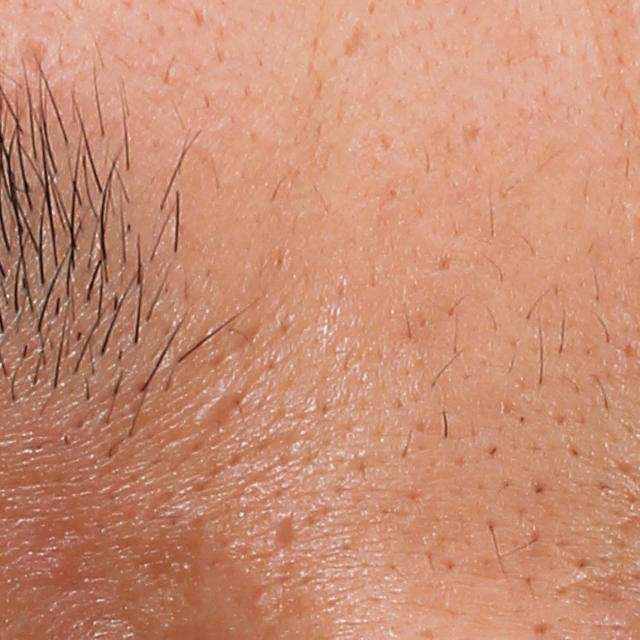atrophic_scar: (182, 376, 257, 456), (203, 308, 266, 372), (341, 16, 374, 62), (14, 32, 50, 73), (274, 511, 300, 551)
papule: (48, 554, 79, 590)
